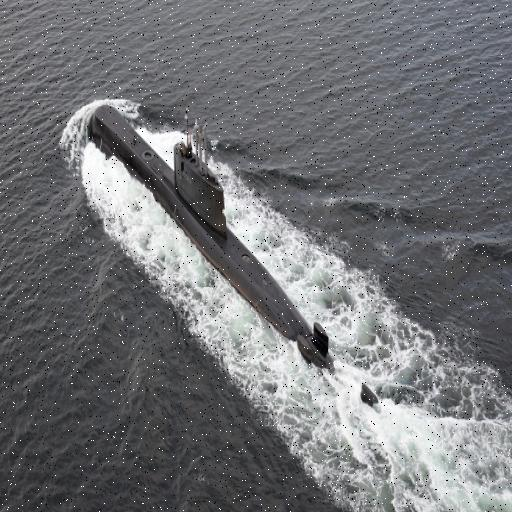submarine: (86, 88, 342, 374)
